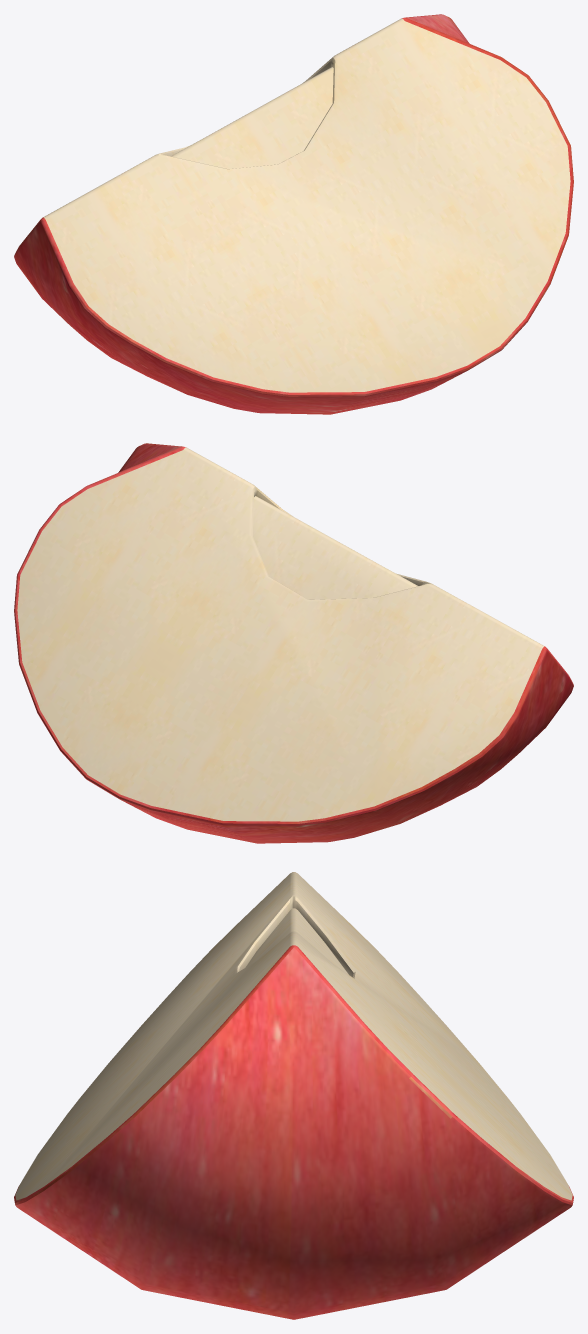
Rendered from apple.fbx.
3 views of the same model, one above another, from view 1: azimuth 30°, elevation 25°; view 2: azimuth 150°, elevation 25°; view 3: azimuth 270°, elevation 25° (orthographic). The views are drawn at different scales.
Parts seen in each view (by area): view 1: Sphere; view 2: Sphere; view 3: Sphere.
Part boxes in pixels (x1,y1,x2,y2): Sphere: [14, 14, 573, 414]; Sphere: [14, 443, 573, 843]; Sphere: [14, 872, 573, 1319].
Size of the model in its own units: 151 by 103 by 134.
2 materials, 2 textured.
